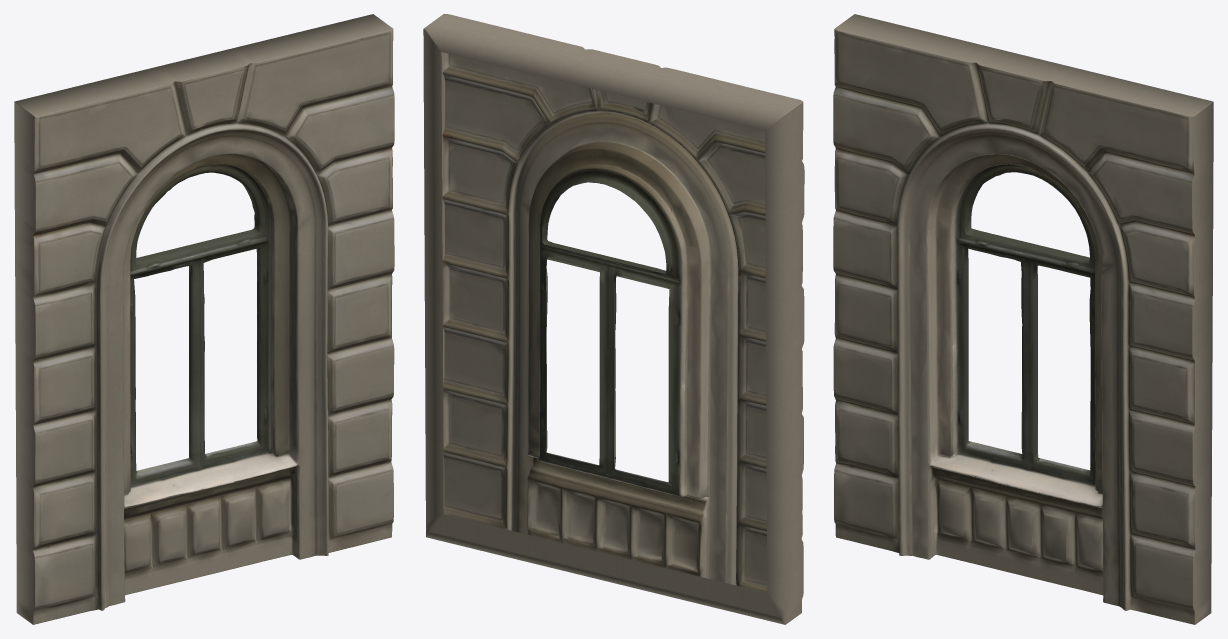
Rendered from modular_window_05.glb.
3 renders of one model, left to right at view 1: azimuth 30°, elevation 25°; view 2: azimuth 150°, elevation 25°; view 3: azimuth 330°, elevation 25°, orthographic.
Parts seen in each view (by area): view 1: modular_window_5; view 2: modular_window_5; view 3: modular_window_5.
Part boxes in pixels (x1,y1,x2,y2): modular_window_5: (14,14,394,624); modular_window_5: (423,14,804,624); modular_window_5: (833,14,1213,624).
Size of the model in its own units: 3 by 4.07 by 0.3283.
Materials: 1 (1 with a texture image).
